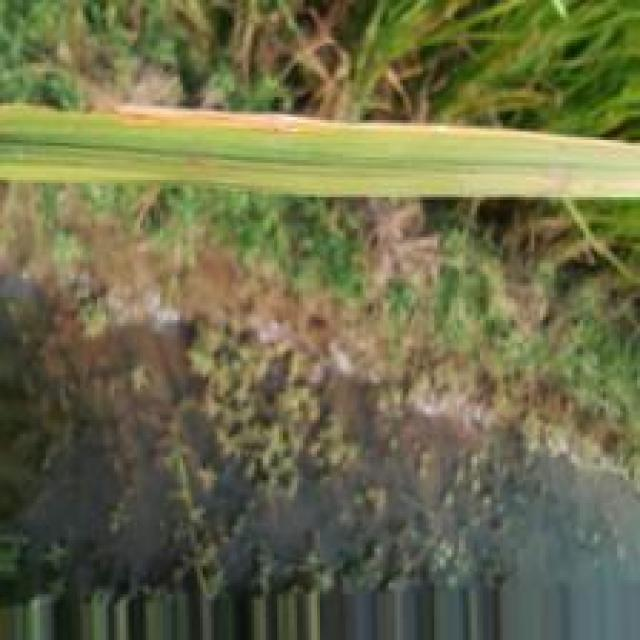Bacterial_Leaf_Blight: (107, 102, 325, 135), (182, 157, 205, 178)
